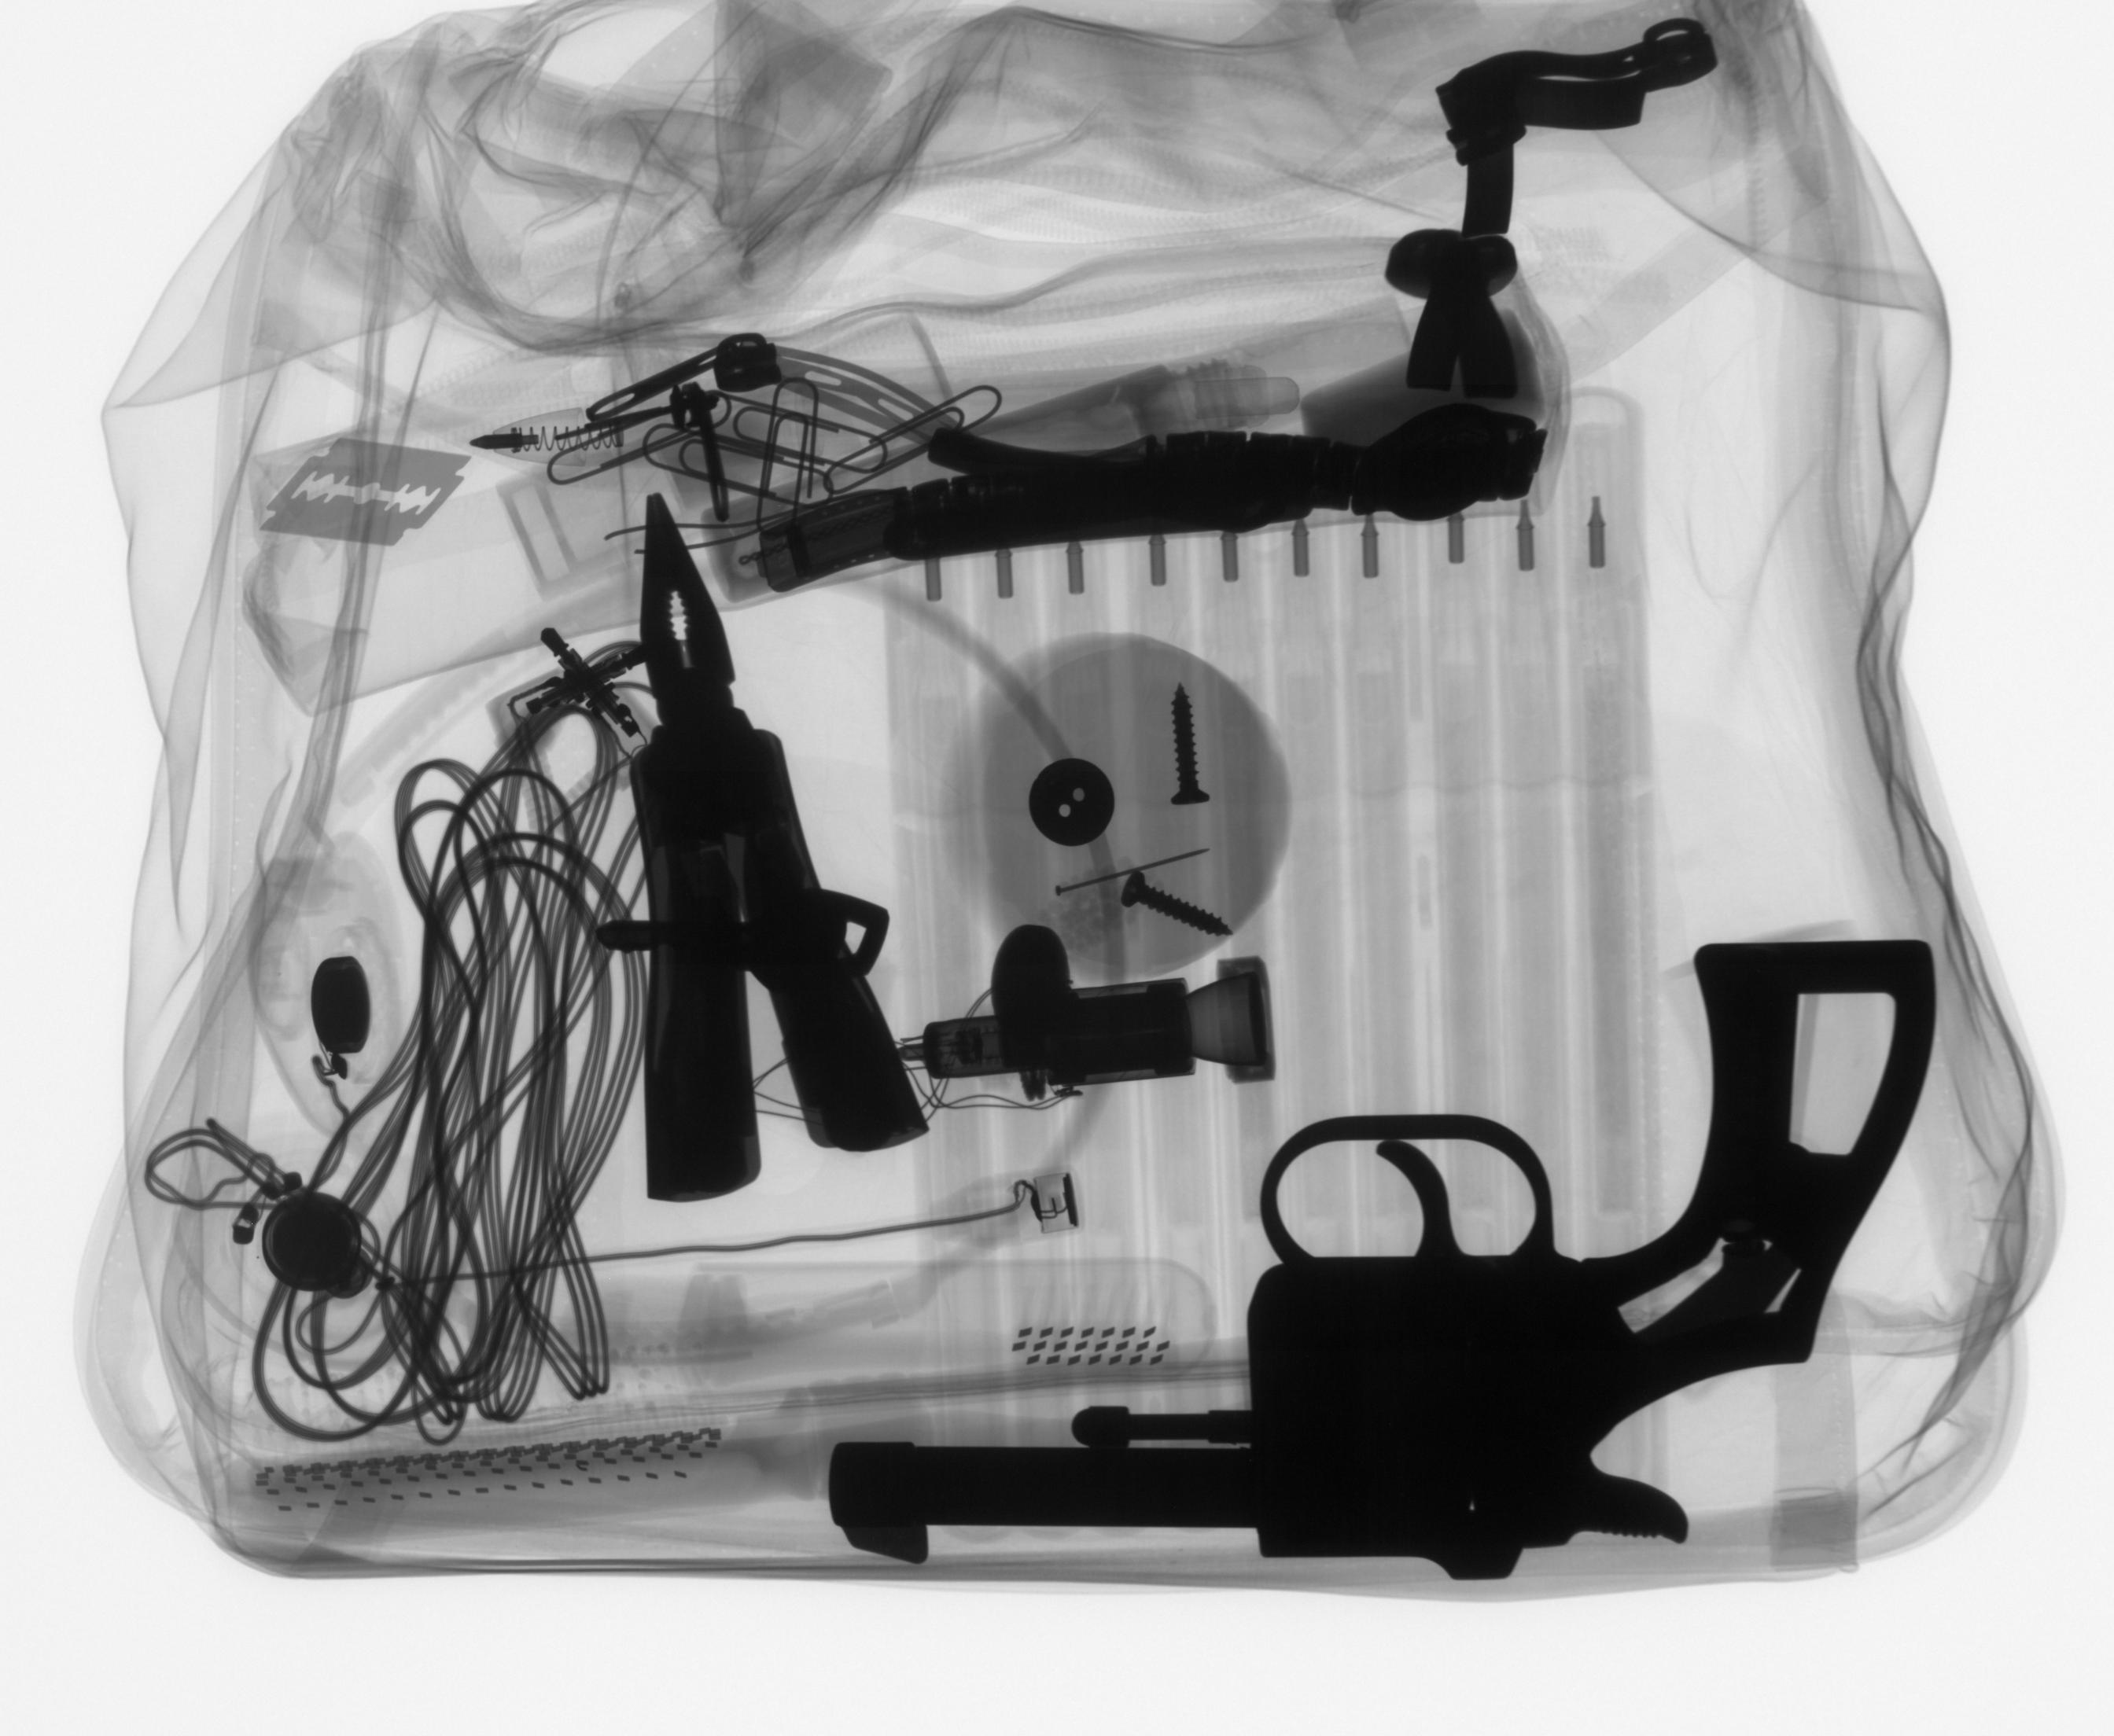Handgun: (788, 918, 1975, 1585)
RazorBlade: (263, 425, 483, 563)
